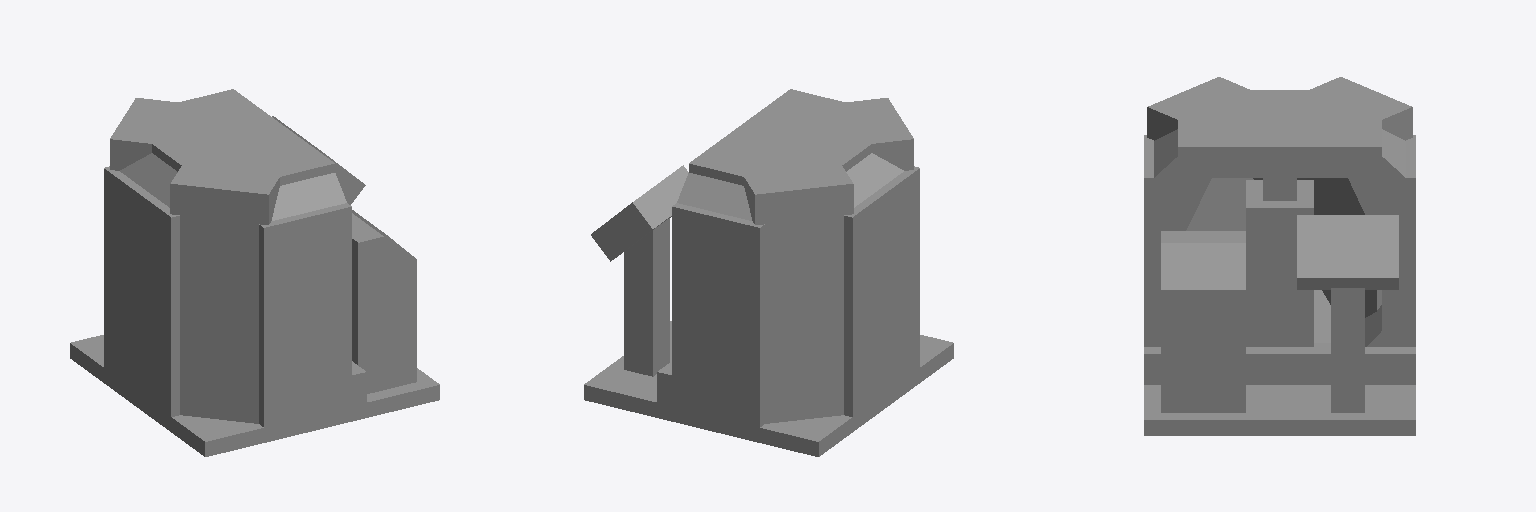
The model's file is plasma_heater.obj.
3 renders of one model, left to right at view 1: azimuth 30°, elevation 25°; view 2: azimuth 150°, elevation 25°; view 3: azimuth 270°, elevation 25°, orthographic.
Visible parts, largest first — view 1: l, h, b, i, a, w, k, m, n, c, y, x (+2 smaller); view 2: k, e, b, a, i, u, v, l, f, n, c, t; view 3: i, a, w, srot, v, t, l, e, u, k, x, h (+9 smaller).
Part boxes in pixels (x1,y1,x2,y2): l: (170, 163, 280, 423); h: (259, 203, 351, 427); b: (104, 166, 179, 416); i: (146, 89, 334, 185); a: (70, 335, 439, 456); w: (352, 259, 416, 393); k: (110, 98, 177, 170); m: (272, 173, 346, 220); n: (120, 153, 177, 207); c: (152, 123, 229, 178); y: (352, 213, 387, 273); x: (352, 210, 415, 279); k: (744, 163, 853, 423); e: (672, 203, 764, 427); b: (844, 166, 919, 416); a: (584, 321, 953, 456); i: (689, 89, 877, 185); u: (624, 218, 669, 376); v: (591, 165, 688, 261); l: (846, 98, 913, 170); f: (677, 173, 751, 220); n: (846, 153, 903, 207); c: (795, 123, 871, 174); t: (657, 361, 671, 405); i: (1178, 104, 1381, 177); a: (1144, 343, 1415, 435); w: (1161, 290, 1245, 412); srot: (1246, 180, 1313, 346); v: (1297, 215, 1398, 289); t: (1144, 347, 1415, 384); l: (1147, 77, 1253, 230); e: (1382, 135, 1415, 346); u: (1331, 288, 1364, 412); k: (1306, 77, 1412, 317); x: (1161, 243, 1245, 289); h: (1144, 135, 1177, 346).
Bounding box in the file's own units: 1.01 × 1 × 1.